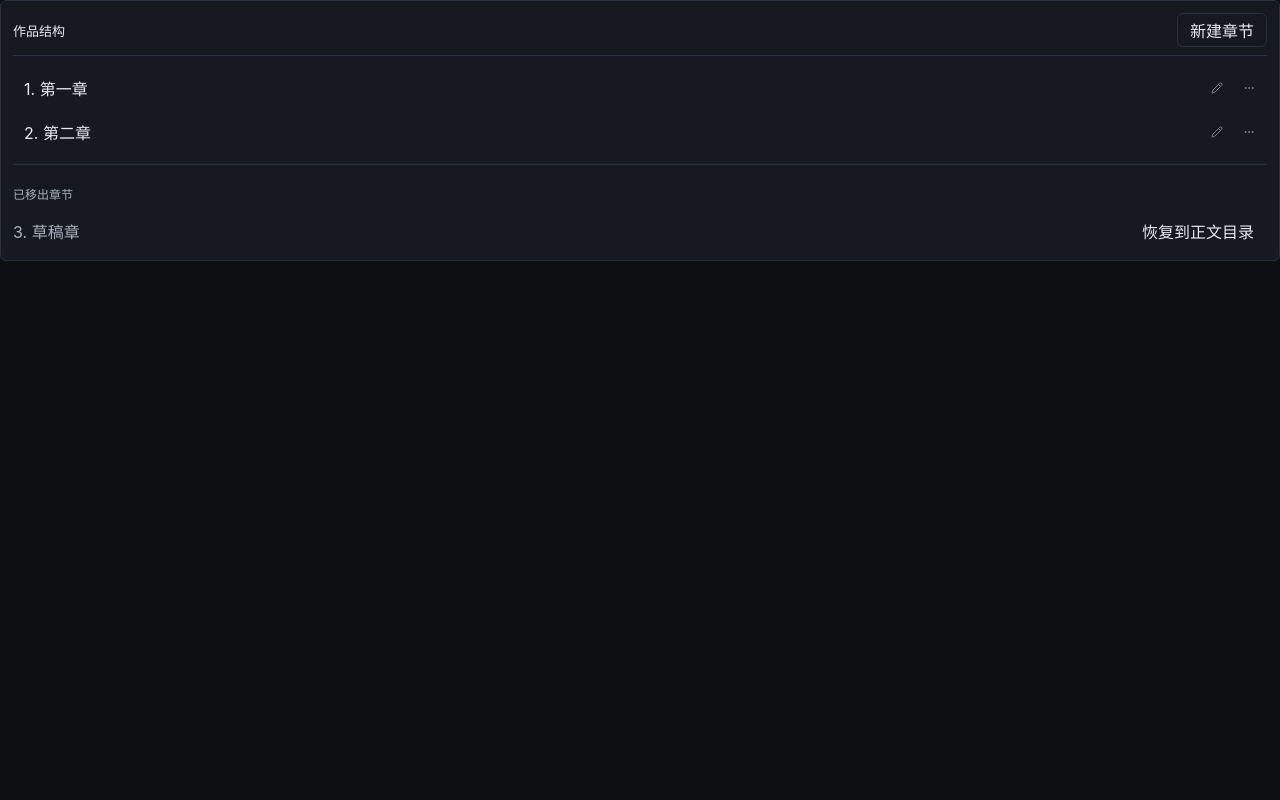
Test: chapter lifecycle author UX › closes archive confirmation on Escape
Click the button named "更多章节操作第一章" at (1249, 88), box x1=1235 y1=74 x2=1263 y2=102
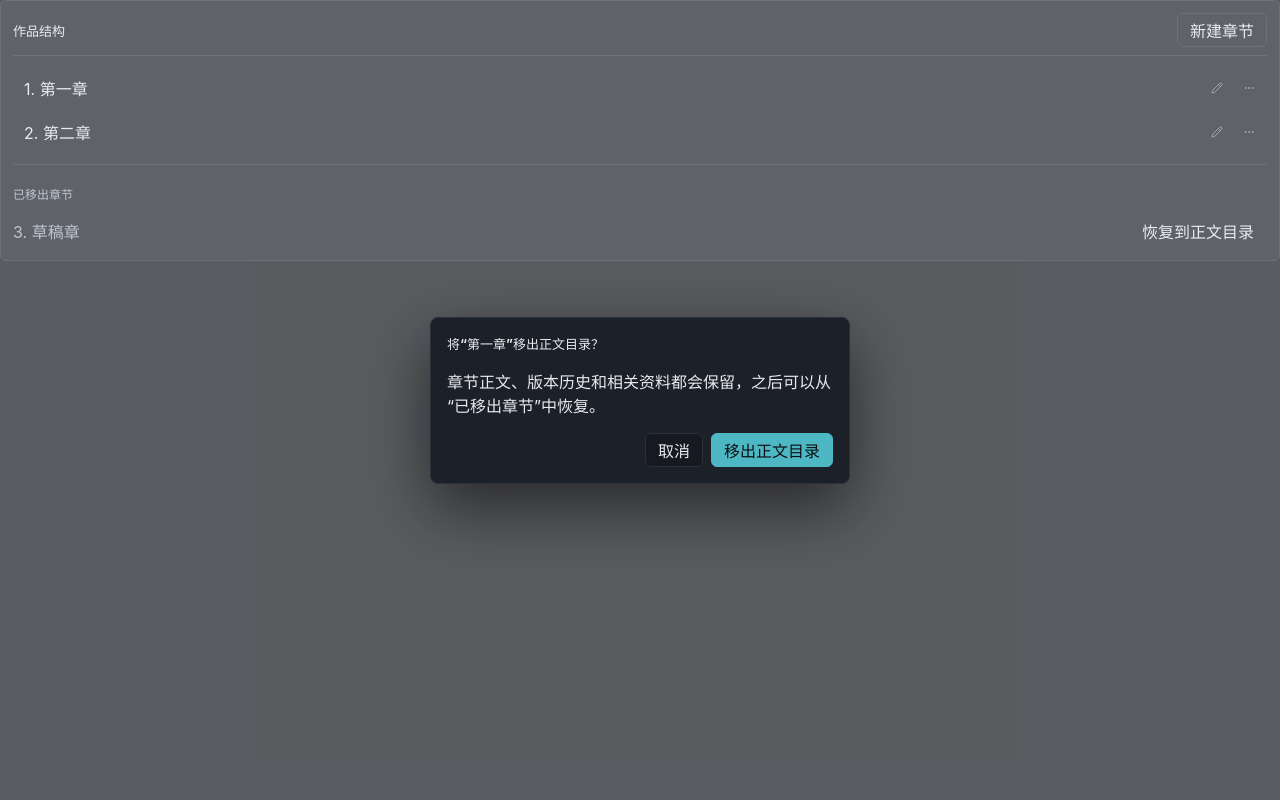
Press Escape
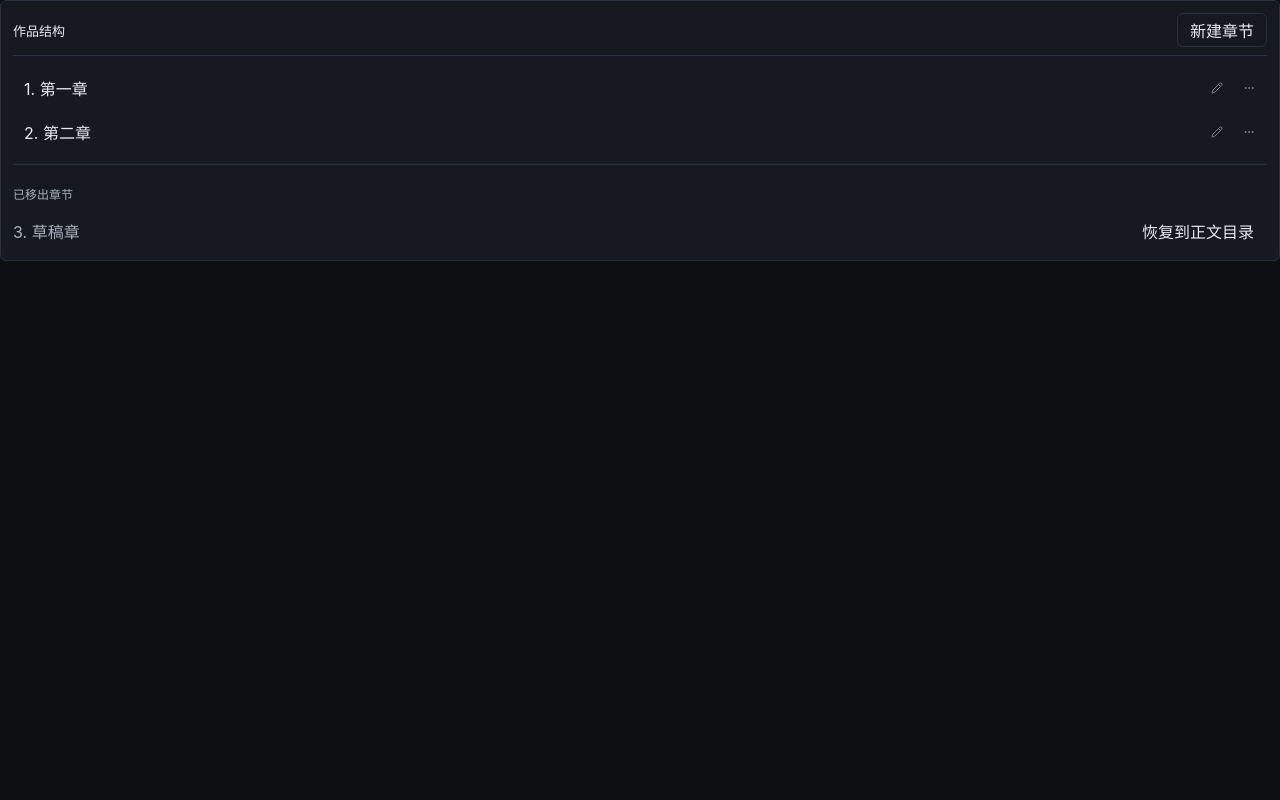
Result: the heading "将“第一章”移出正文目录" is gone
